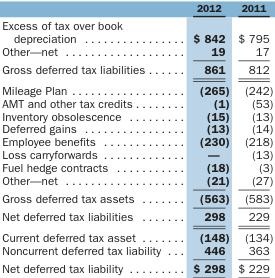table: (1, 1, 272, 274)
table column: (1, 1, 176, 274), (176, 1, 233, 274), (233, 1, 272, 274)
table column header: (1, 1, 272, 16)
table row: (1, 16, 272, 44), (1, 60, 272, 79), (1, 207, 272, 226), (1, 189, 272, 207), (1, 79, 272, 96), (1, 226, 272, 243), (1, 44, 272, 60), (1, 173, 272, 189), (1, 243, 272, 259), (1, 1, 272, 16), (1, 259, 272, 274), (1, 96, 272, 109), (1, 109, 272, 122), (1, 134, 272, 147), (1, 147, 272, 160), (1, 160, 272, 173), (1, 122, 272, 134)
